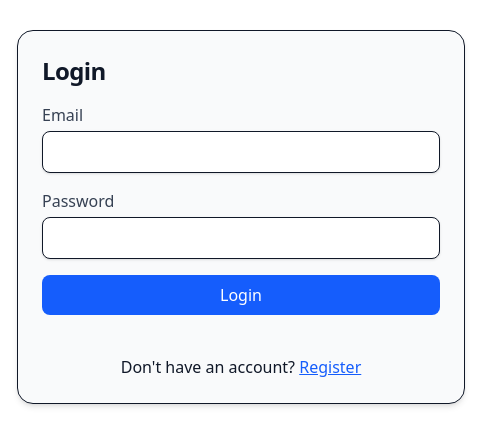
Login Page - Unit Tests › should show error when password is empty
Type "user@example.com" into the field labelled "Email" at (241, 152), box 42,131 -> 440,173
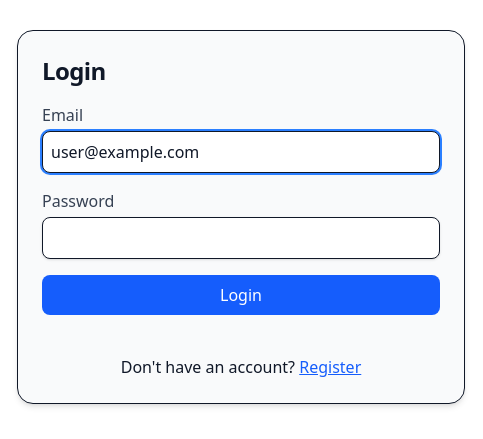
Clear the password field labelled "Password" at (241, 238), box 42,217 -> 440,259
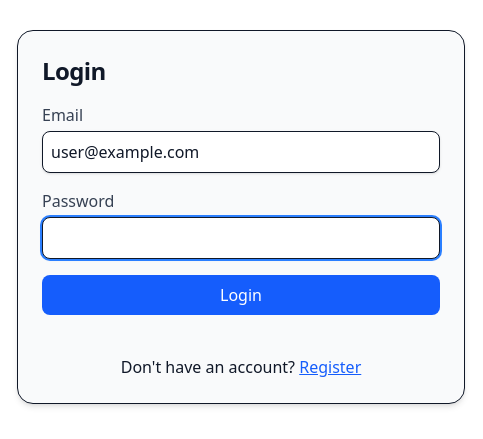
Click the button "Login" at (241, 295), box 42,275 -> 440,315
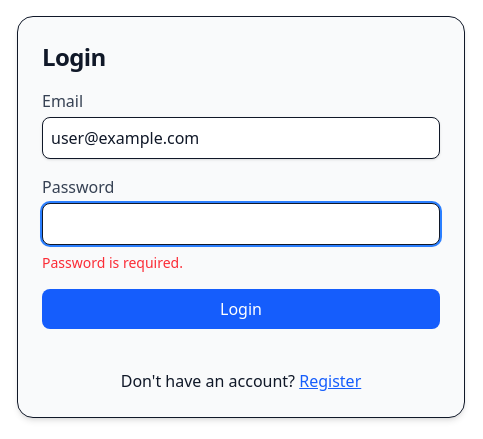
Check: the text "Password is required." is shown, box 42,253 -> 183,272
